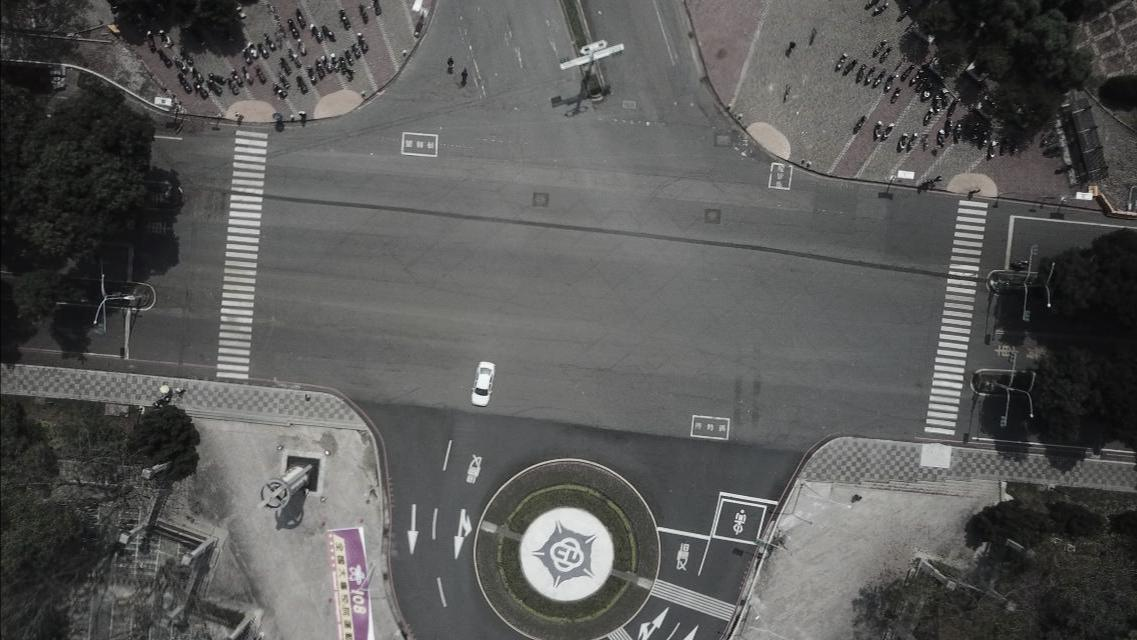vehicle: (471, 361, 496, 408)
